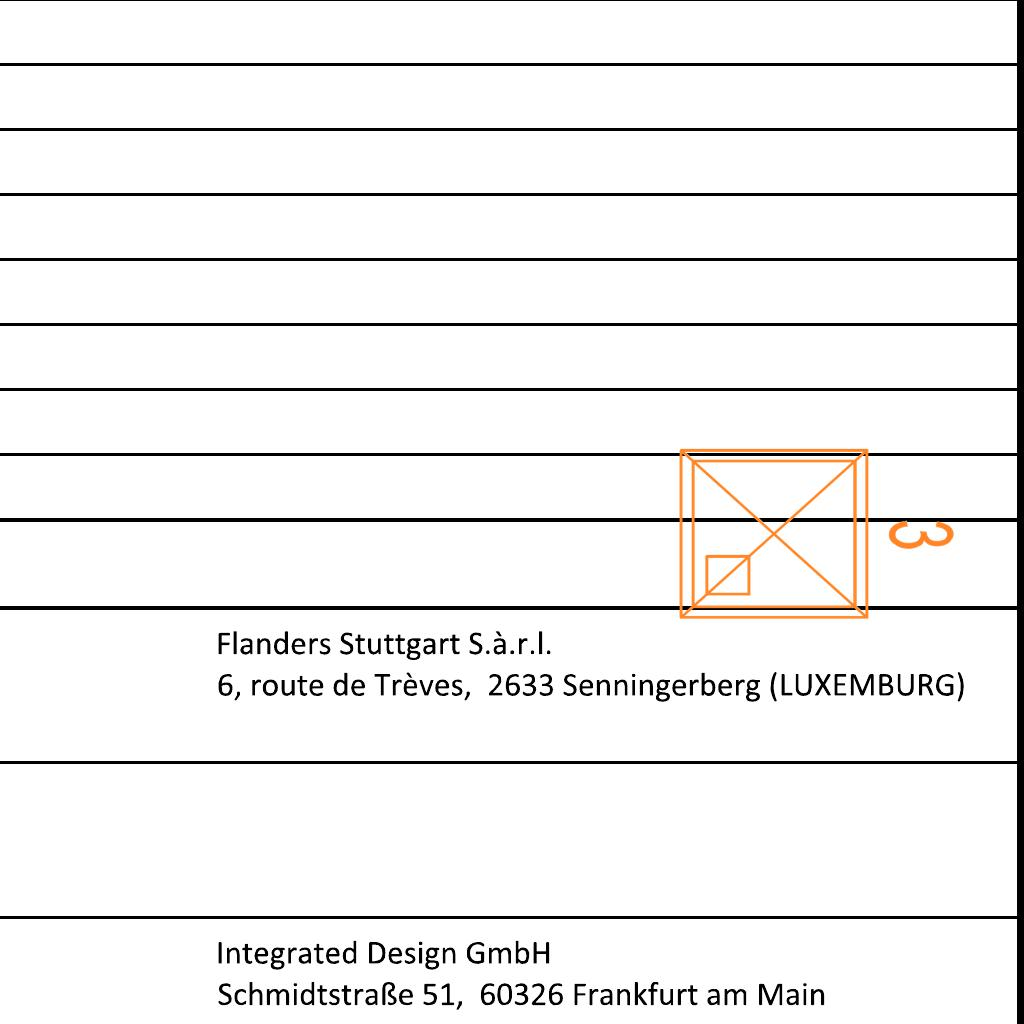Einbaudownlights_LED_Konferenzraeume: (665, 426, 965, 634)
